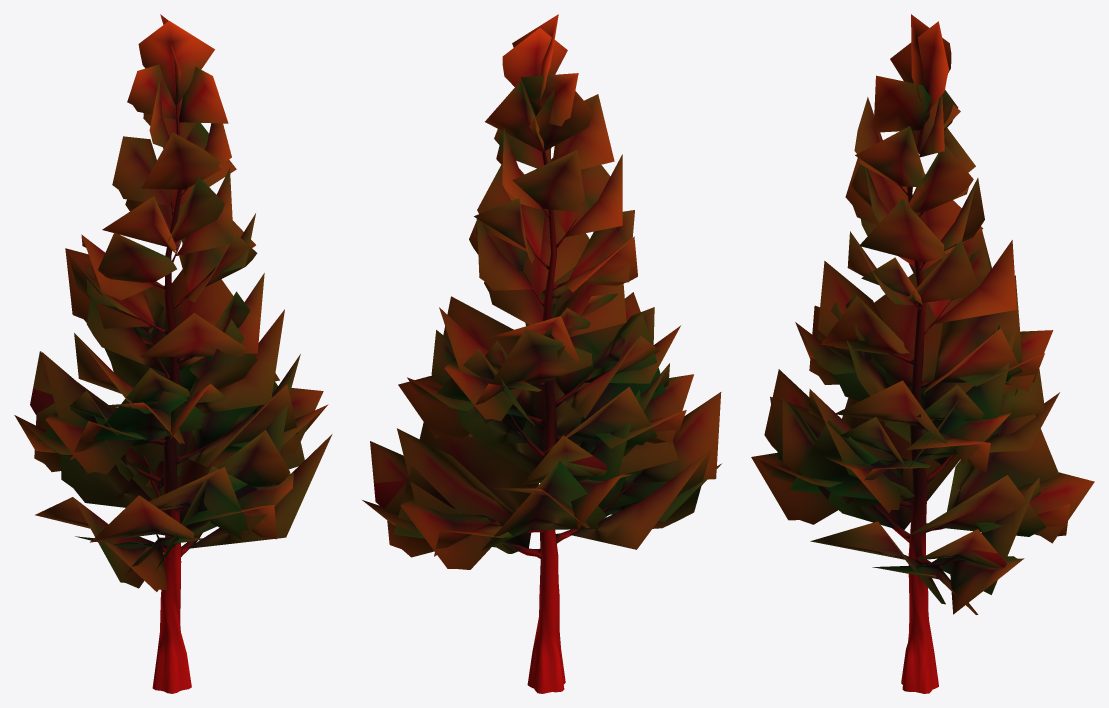
The model's file is SpruceTree_A.fbx.
The picture shows the model from 3 angles, left to right: view 1: azimuth 30°, elevation 25°; view 2: azimuth 150°, elevation 25°; view 3: azimuth 270°, elevation 25°; orthographic projection.
Parts seen in each view (by area): view 1: STA_Leaves_LOD0, STA_Bark_LOD0; view 2: STA_Leaves_LOD0, STA_Bark_LOD0; view 3: STA_Leaves_LOD0, STA_Bark_LOD0.
Boxes of the visible parts, x1,y1,x2,y2 form: STA_Leaves_LOD0: (14, 14, 332, 591); STA_Bark_LOD0: (135, 104, 243, 693); STA_Leaves_LOD0: (362, 14, 721, 569); STA_Bark_LOD0: (488, 111, 633, 693); STA_Leaves_LOD0: (751, 14, 1094, 614); STA_Bark_LOD0: (872, 114, 954, 693).
Size of what is drawn, in the model's own units: 10.31 by 22.71 by 10.58.
